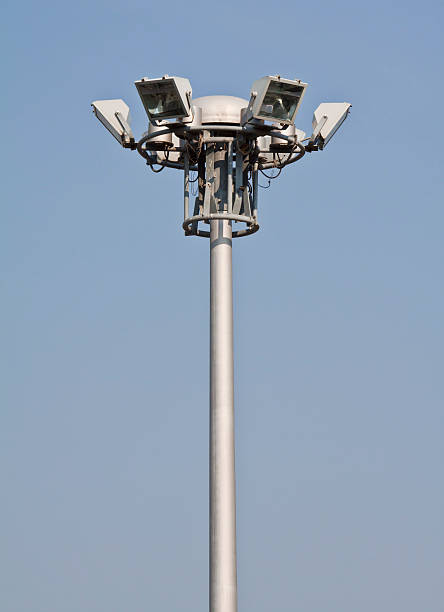light_pole: (203, 243, 242, 611)
